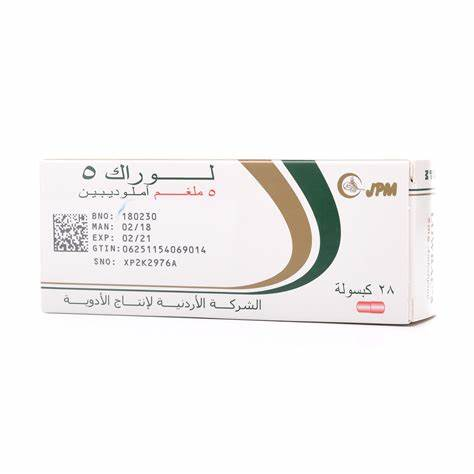Medicine: (27, 144, 444, 335)
